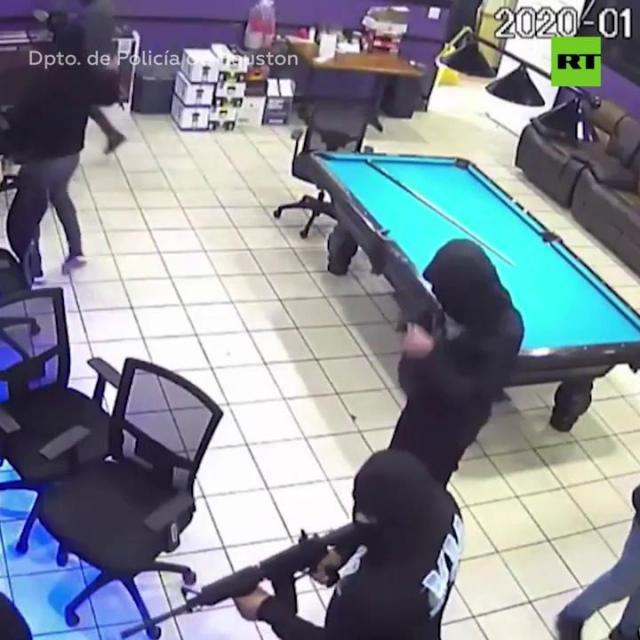weapon: (109, 517, 357, 640)
